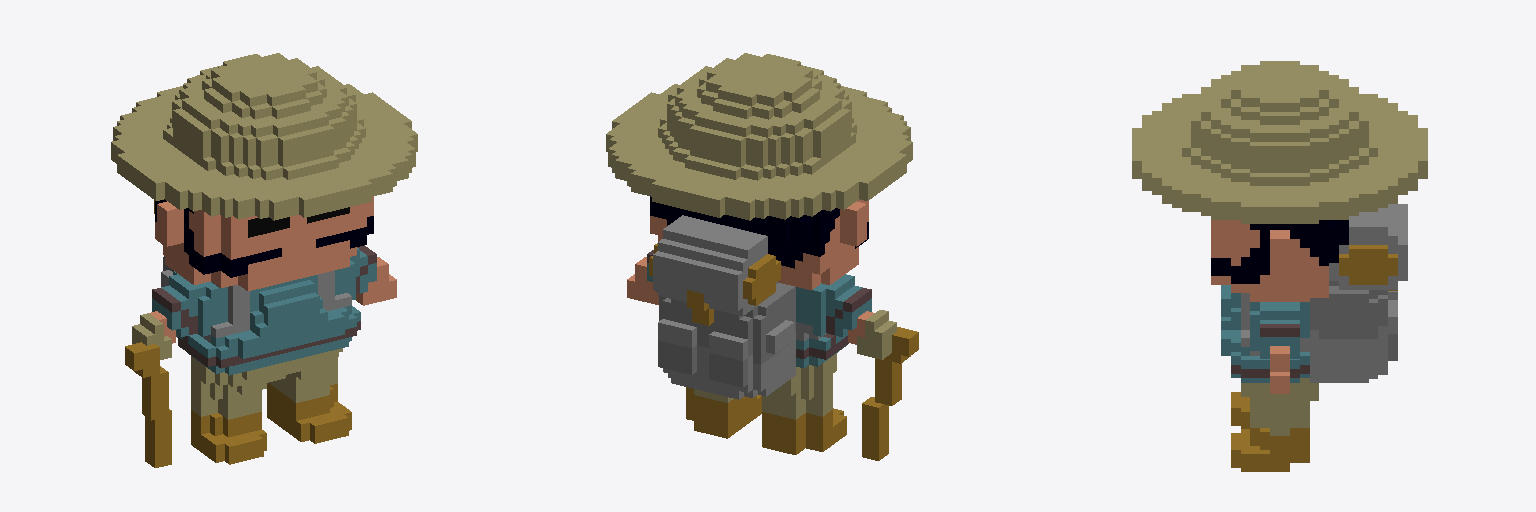
3 renders of one model, left to right at view 1: azimuth 30°, elevation 25°; view 2: azimuth 150°, elevation 25°; view 3: azimuth 270°, elevation 25°, orthographic.
Visible parts, largest first — view 1: object 1; view 2: object 1; view 3: object 1.
Boxes of the visible parts, <box> form: object 1: <box>111,53,417,467</box>; object 1: <box>606,53,918,460</box>; object 1: <box>1132,61,1427,471</box>.
Bounding box in the file's own units: 3.2 × 4 × 3.
1 materials, 1 textured.